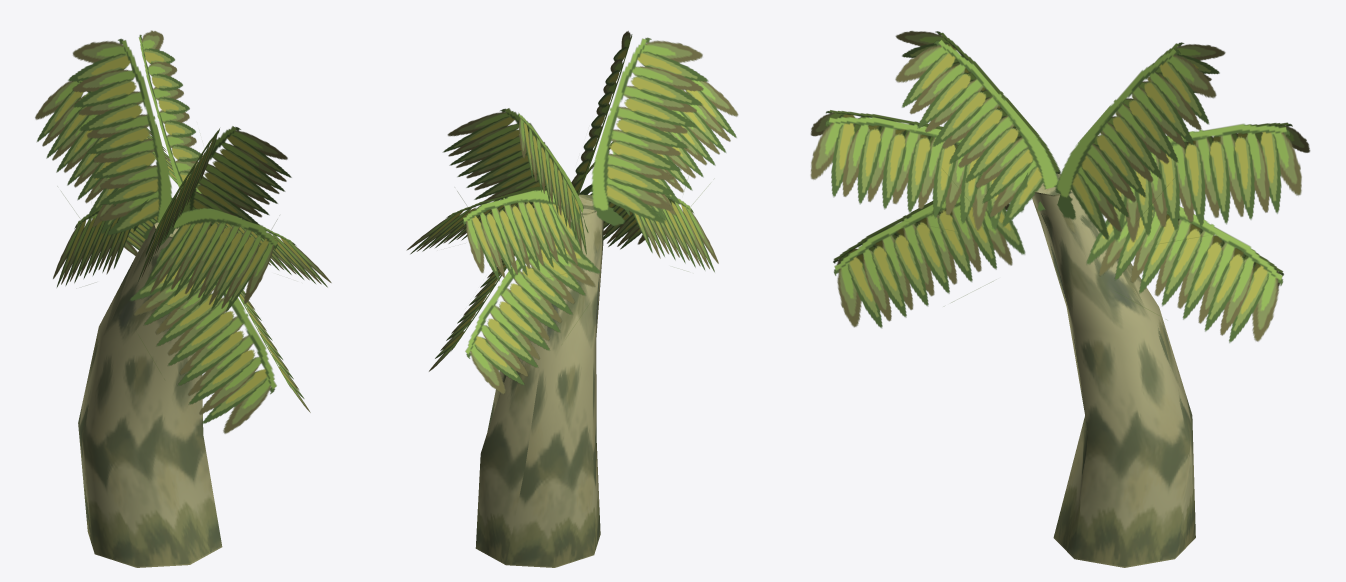
Rendered from palmer.glb.
3 renders of one model, left to right at view 1: azimuth 30°, elevation 25°; view 2: azimuth 150°, elevation 25°; view 3: azimuth 270°, elevation 25°, orthographic. The views are drawn at different scales.
Visible parts, largest first — view 1: trunkeroni, Grid.011, Grid.004, Grid.001, Grid.003, Grid.002, Grid, Grid.005; view 2: trunkeroni, Grid.011, Grid.002, Grid.001, Grid.004, Grid.003, Grid.005; view 3: Grid.011, trunkeroni, Grid.003, Grid.005, Grid, Grid.002, Grid.001, Grid.004.
Part boxes in pixels (x1,y1,x2,y2): trunkeroni: (78, 222, 222, 567); Grid.011: (35, 30, 207, 287); Grid.004: (129, 246, 276, 433); Grid.001: (144, 207, 278, 312); Grid.003: (179, 126, 291, 229); Grid.002: (138, 128, 219, 281); Grid: (206, 208, 331, 287); Grid.005: (239, 288, 310, 412); trunkeroni: (475, 194, 603, 567); Grid.011: (406, 108, 600, 394); Grid.002: (591, 37, 708, 226); Grid.001: (612, 80, 738, 220); Grid.004: (625, 194, 718, 272); Grid.003: (571, 31, 632, 195); Grid.005: (579, 184, 675, 249); Grid.011: (1055, 42, 1310, 342); trunkeroni: (1032, 173, 1195, 567); Grid.003: (895, 39, 1058, 226); Grid.005: (834, 194, 1025, 328); Grid: (810, 116, 1027, 231); Grid.002: (895, 31, 1060, 174); Grid.001: (810, 110, 958, 149); Grid.004: (833, 201, 1009, 269).
Bounding box in the file's own units: 2.59 × 8 × 7.61.
Materials: 13 (13 with a texture image).
